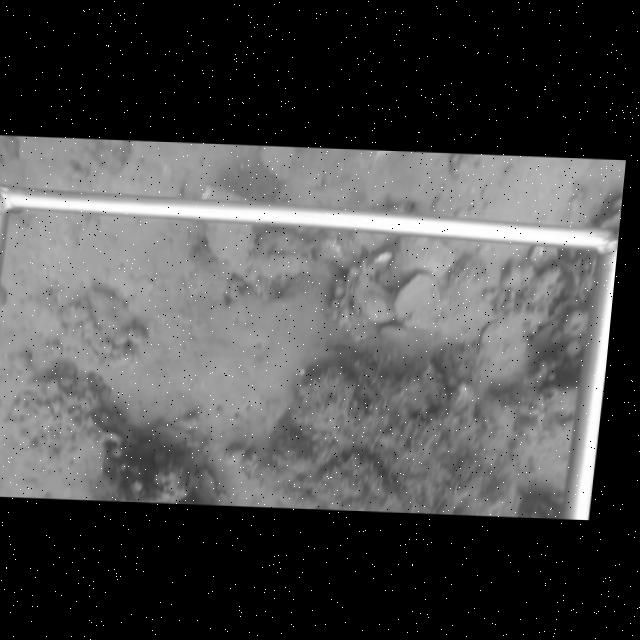Oyster-Closed: (467, 312, 530, 405)
Oyster-Indeterminate: (379, 234, 462, 286), (85, 286, 137, 347), (392, 269, 441, 333), (204, 221, 255, 281)
